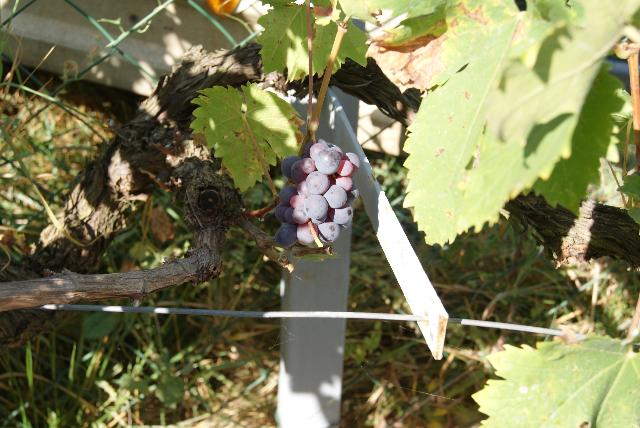grapes: (275, 140, 360, 248)
